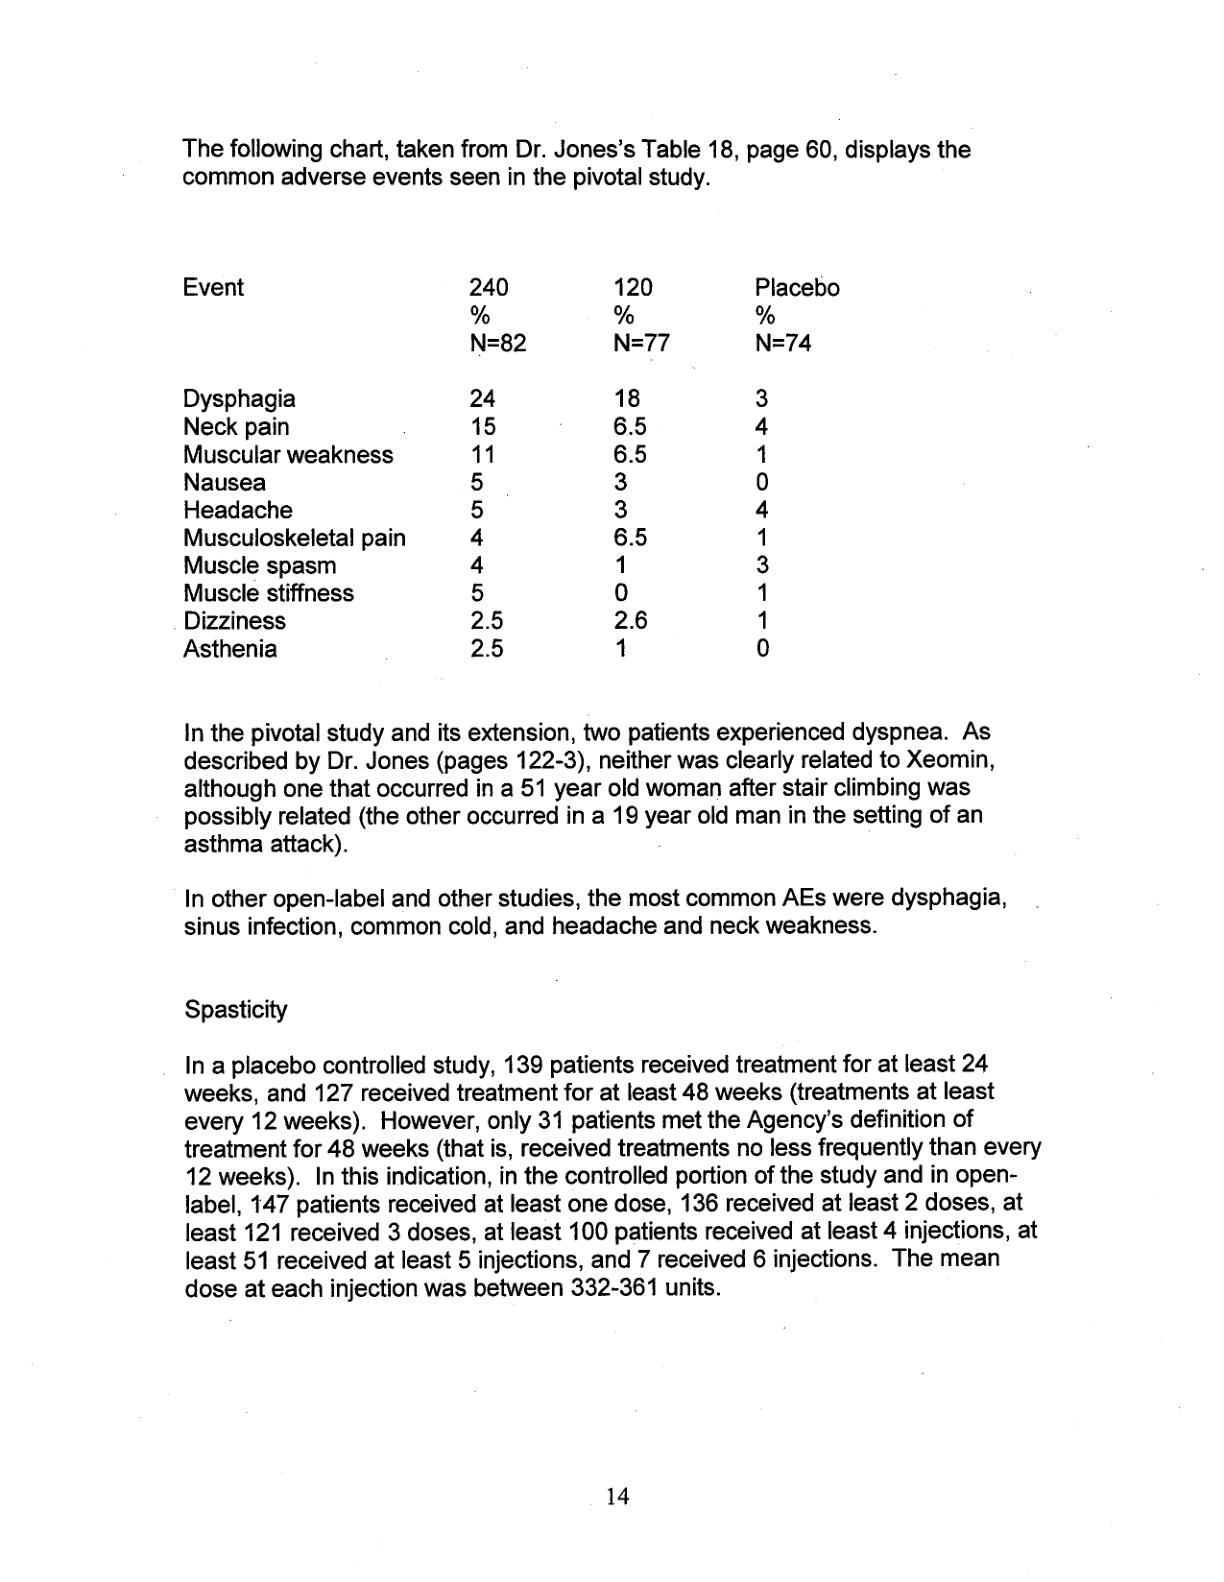nolines: (179, 272, 849, 661)
